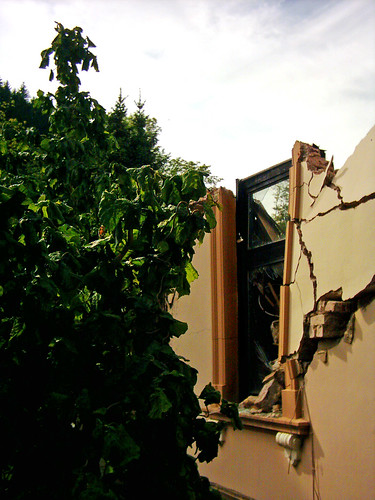building: (171, 118, 375, 500)
sky: (32, 1, 359, 148)
vegetation: (1, 55, 209, 500)
